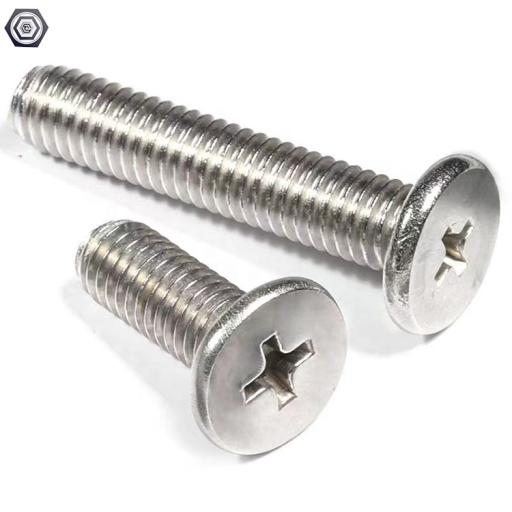Phillips: (193, 272, 347, 466), (390, 142, 496, 350)
